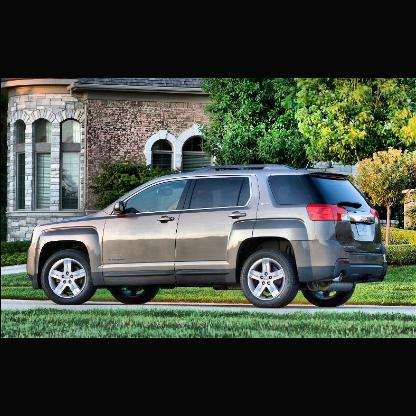GMC Terrain SUV 2012: (26, 165, 388, 310)
